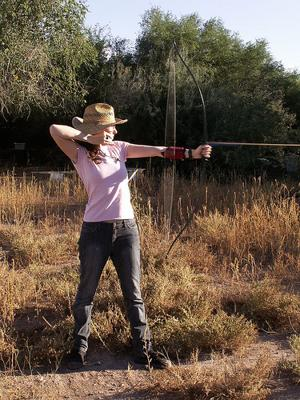person: (49, 101, 212, 365)
